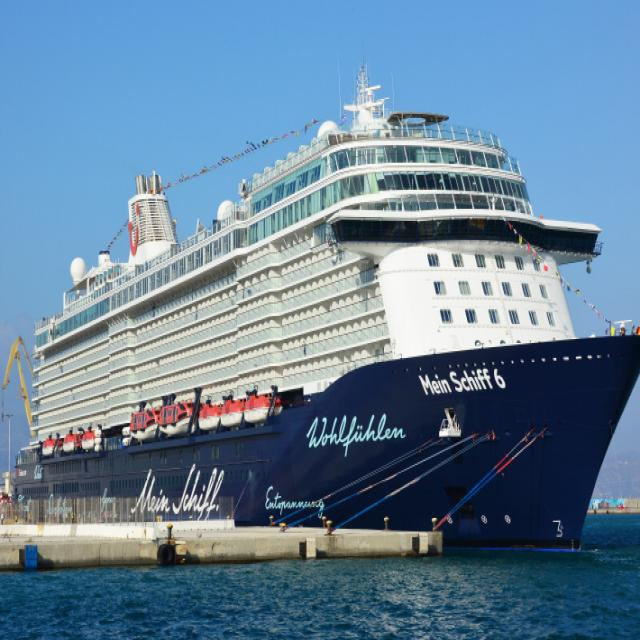cruises: (28, 61, 640, 568)
